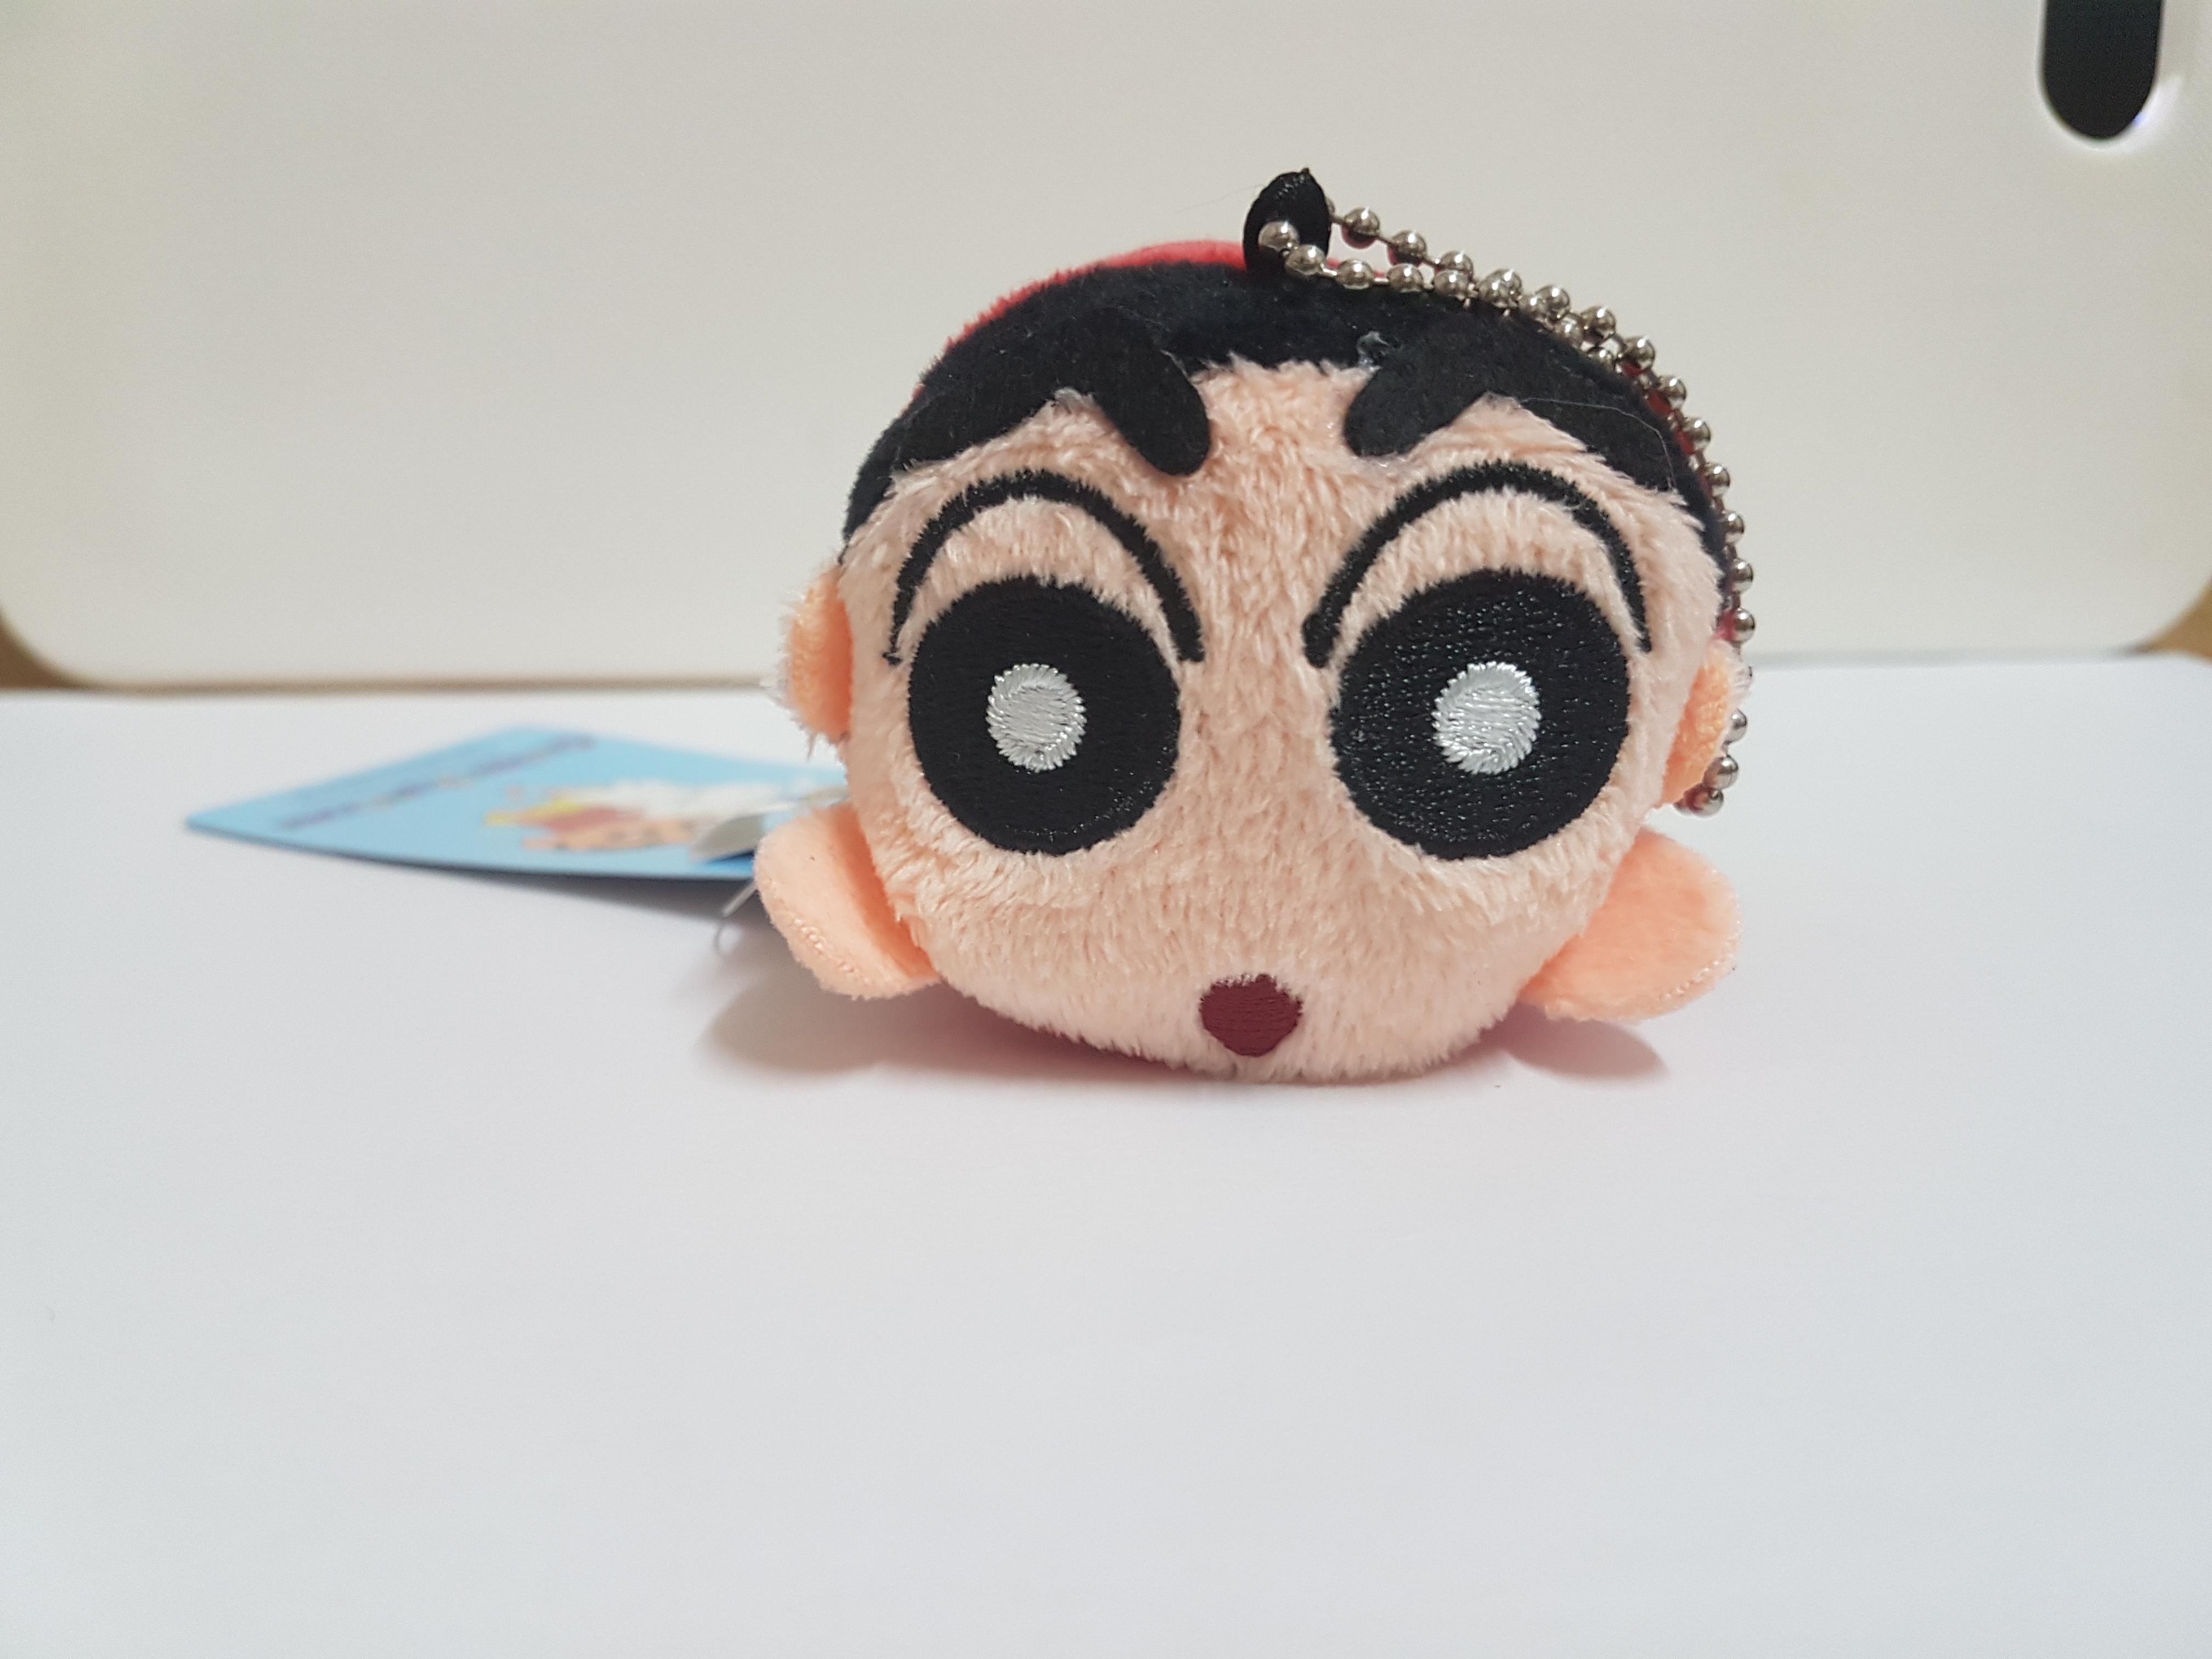stuffed toy: (770, 181, 1737, 1082)
